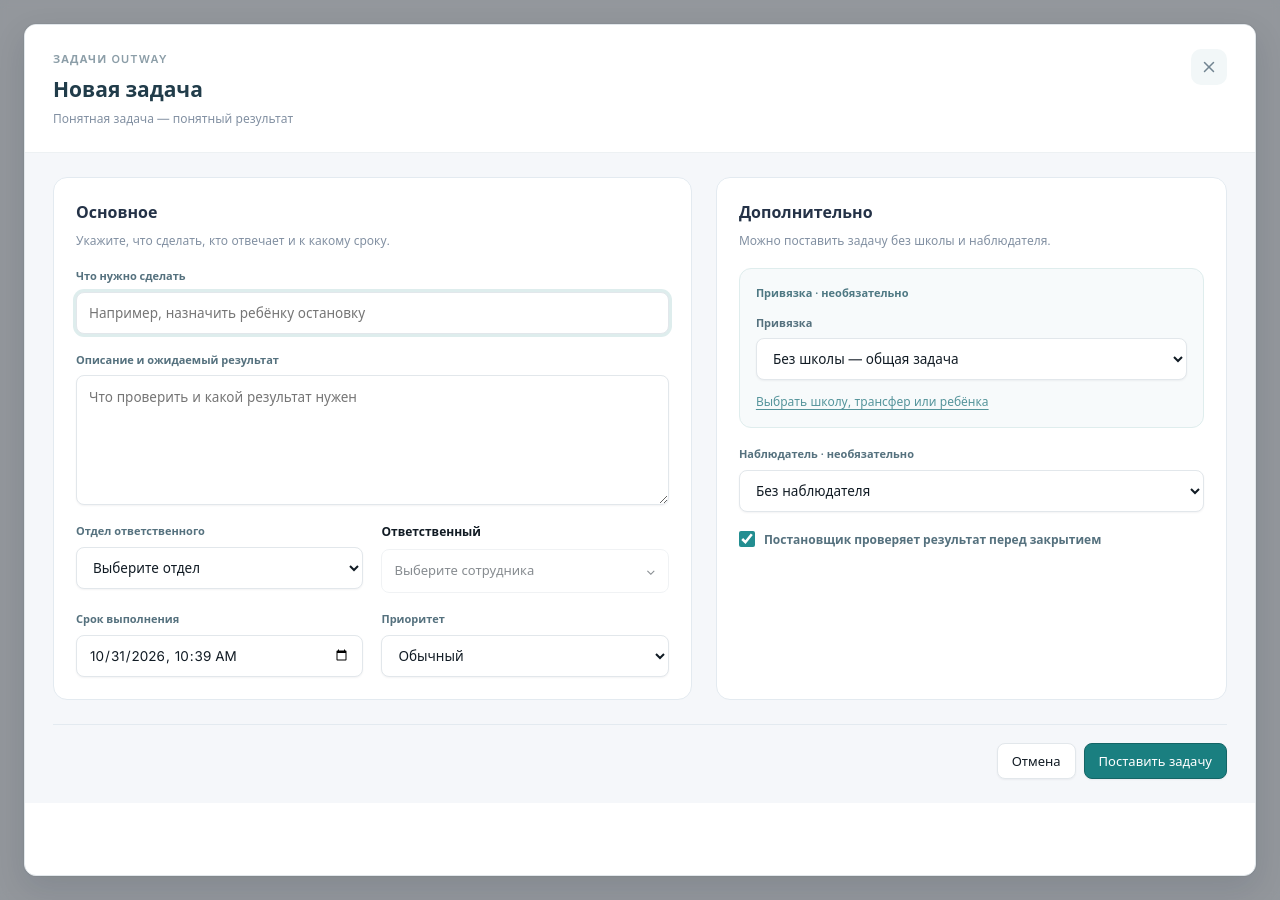
Scenario: can remove selections and requires at least one participant
Type "Общая задача" into the field labelled "Что нужно сделать" at [372, 313], box [76, 292, 669, 334]
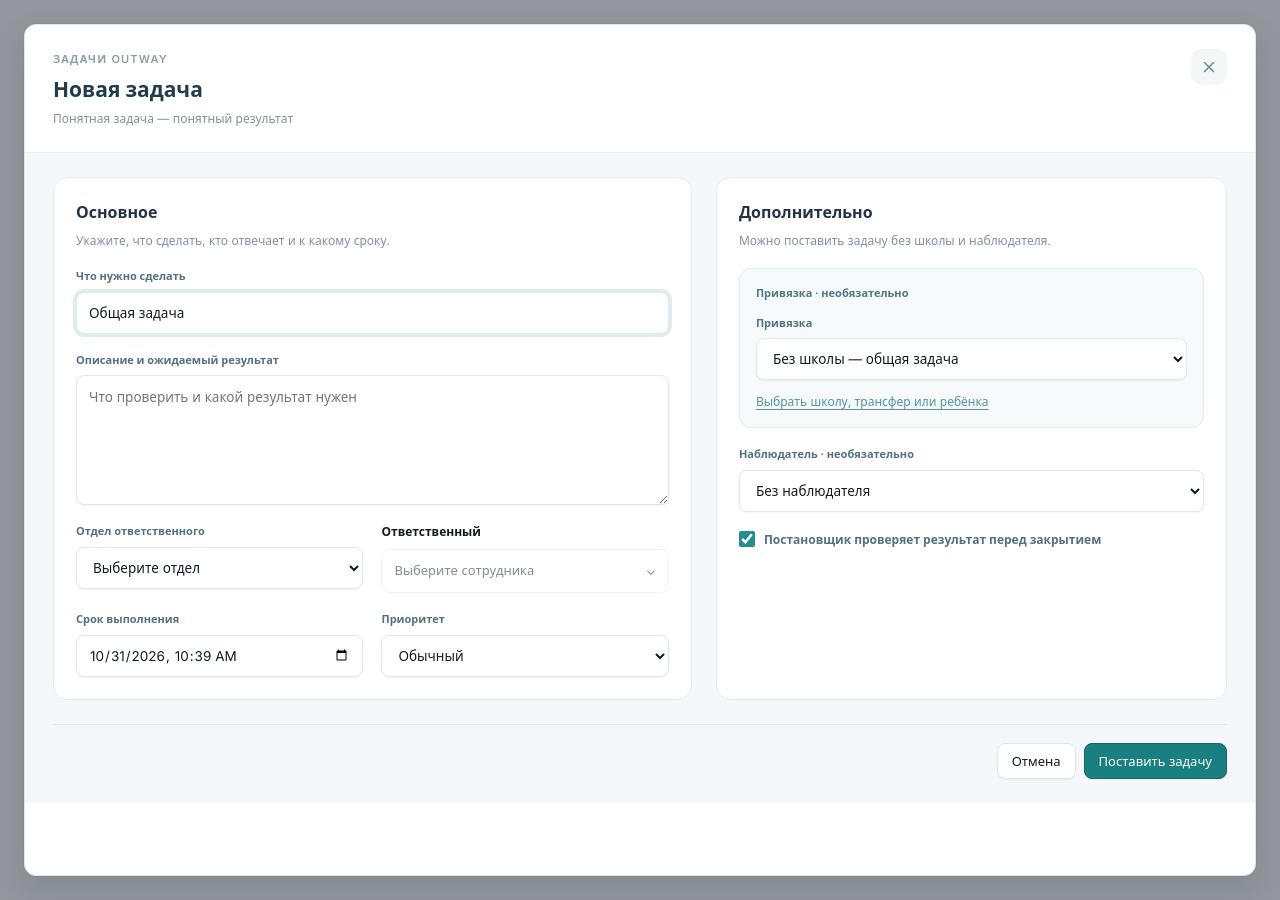
Select "Менеджеры" in the dropdown labelled "Отдел ответственного" at [220, 568], box [76, 547, 363, 589]
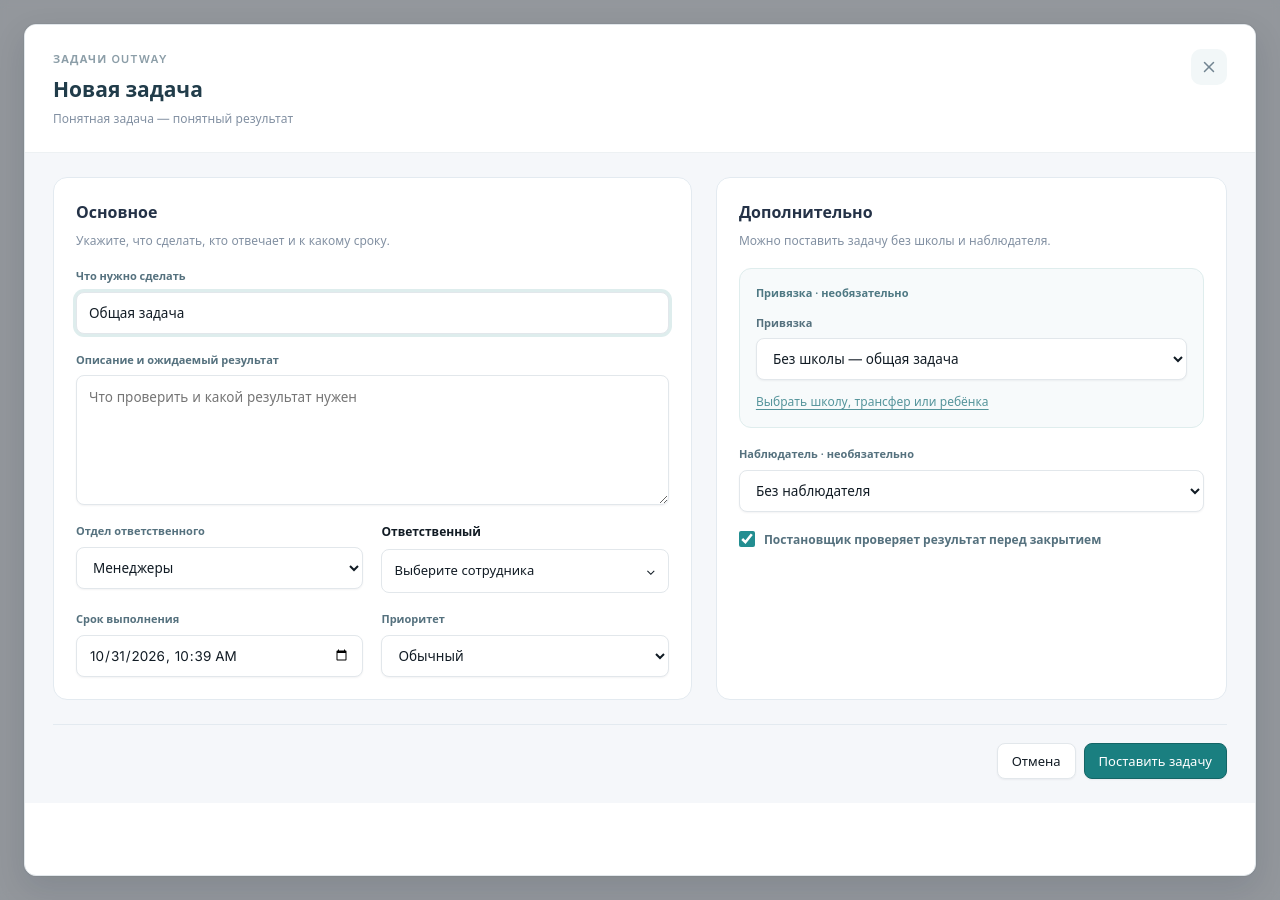
Click the button with aria-label "Ответственный" at [525, 571], box [381, 549, 669, 593]
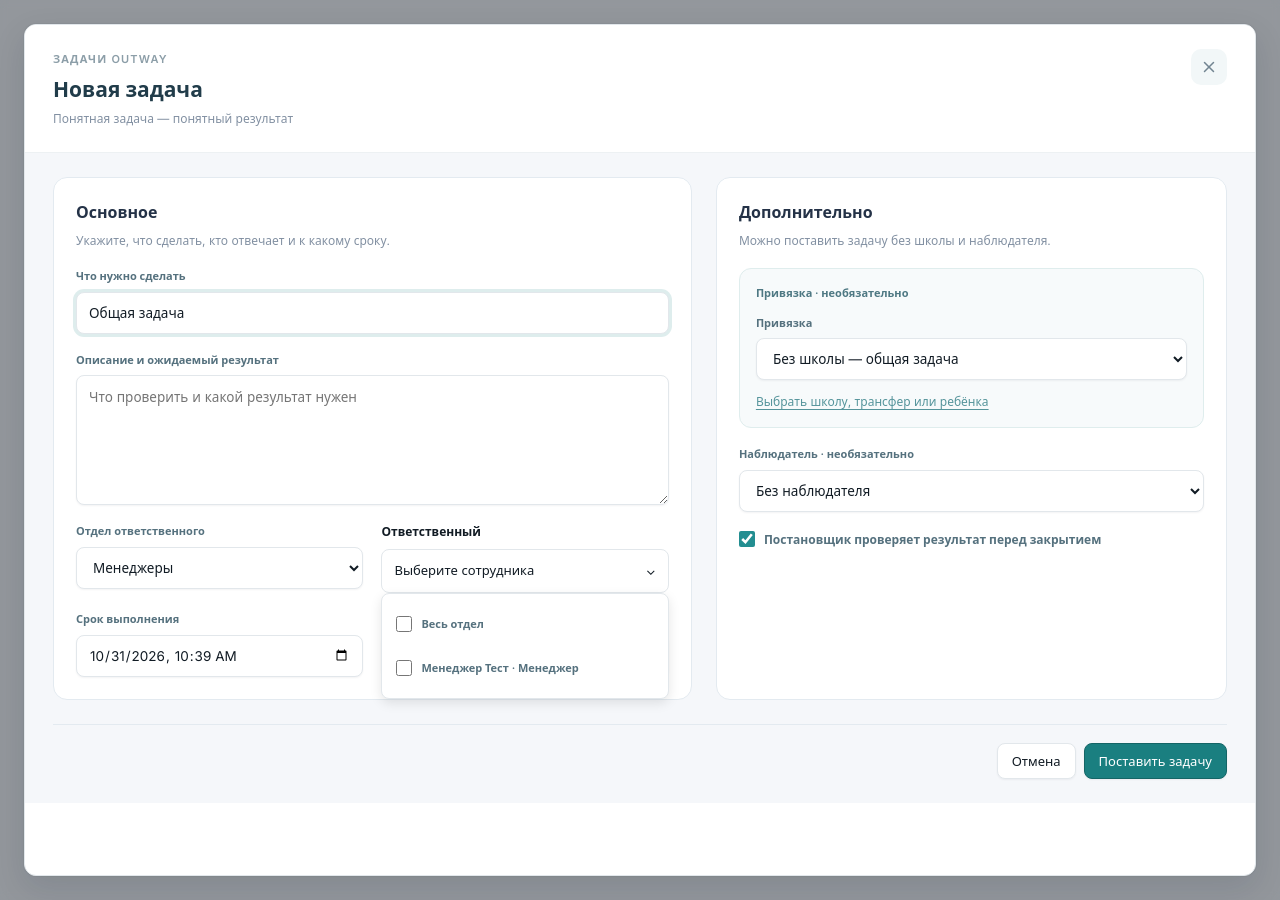
Click the checkbox labelled "Менеджер Тест · Менеджер" at [404, 668], box [396, 660, 412, 676]
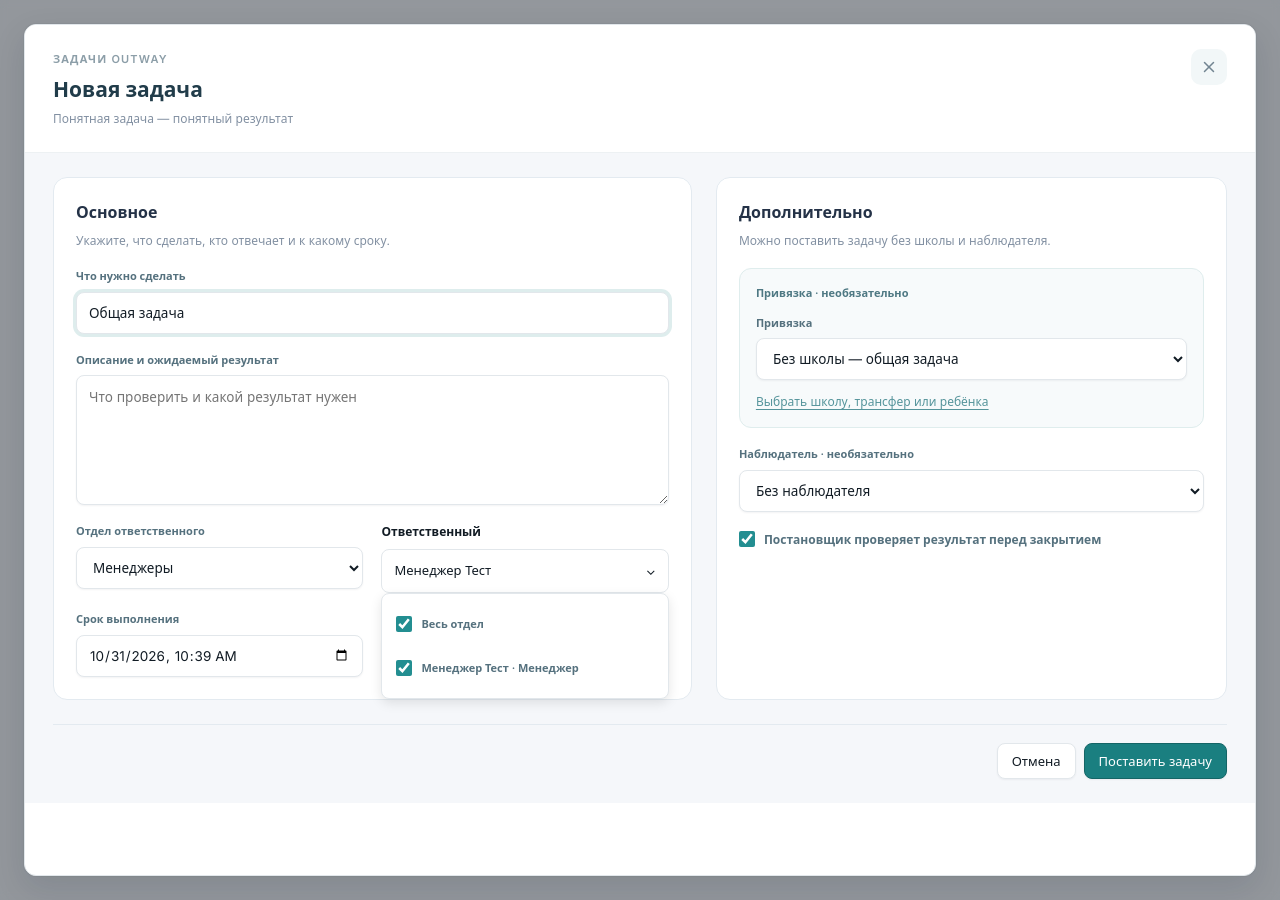
Click the checkbox labelled "Менеджер Тест · Менеджер" at [404, 668], box [396, 660, 412, 676]
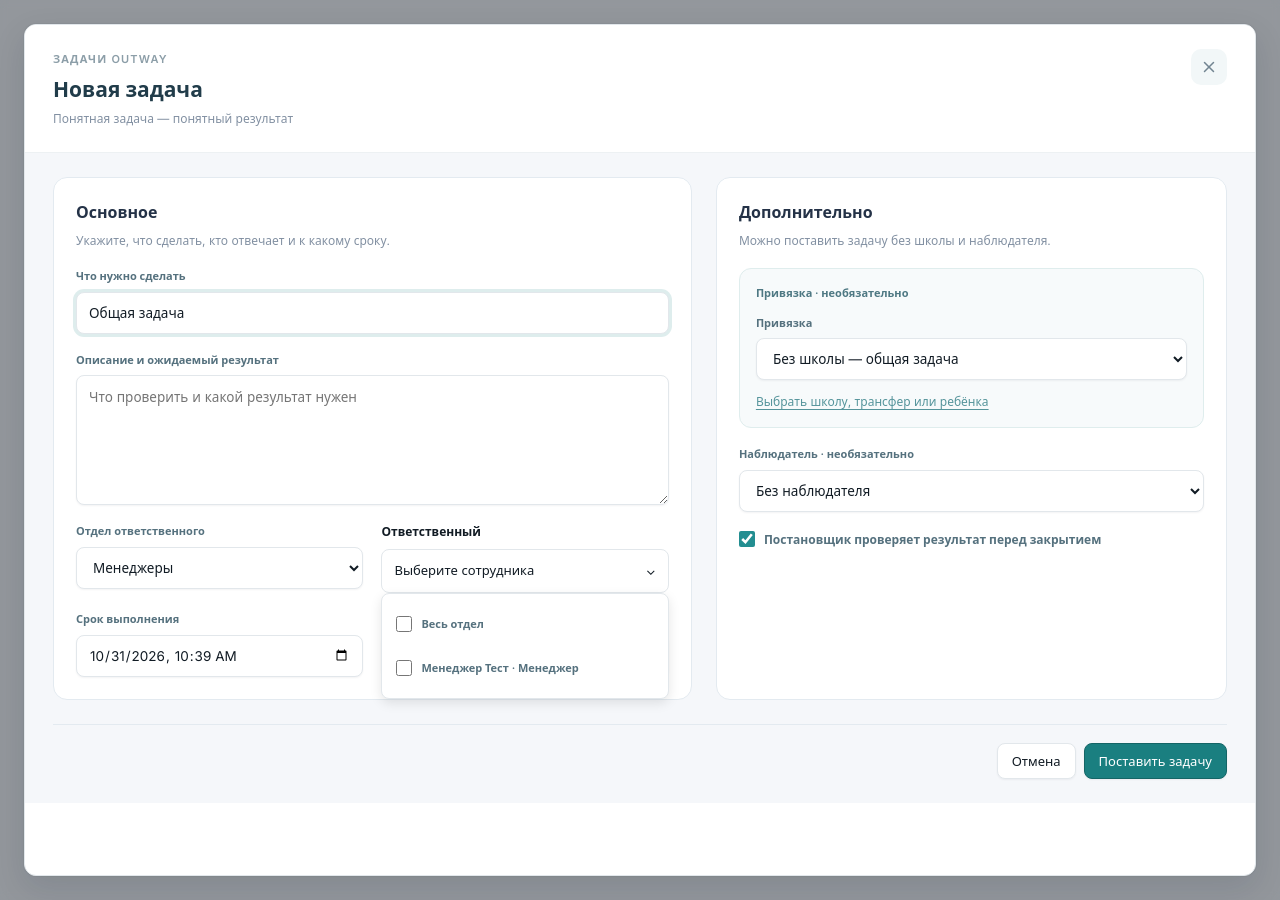
Click the button "Поставить задачу" at [1155, 761], box [1084, 743, 1227, 779]
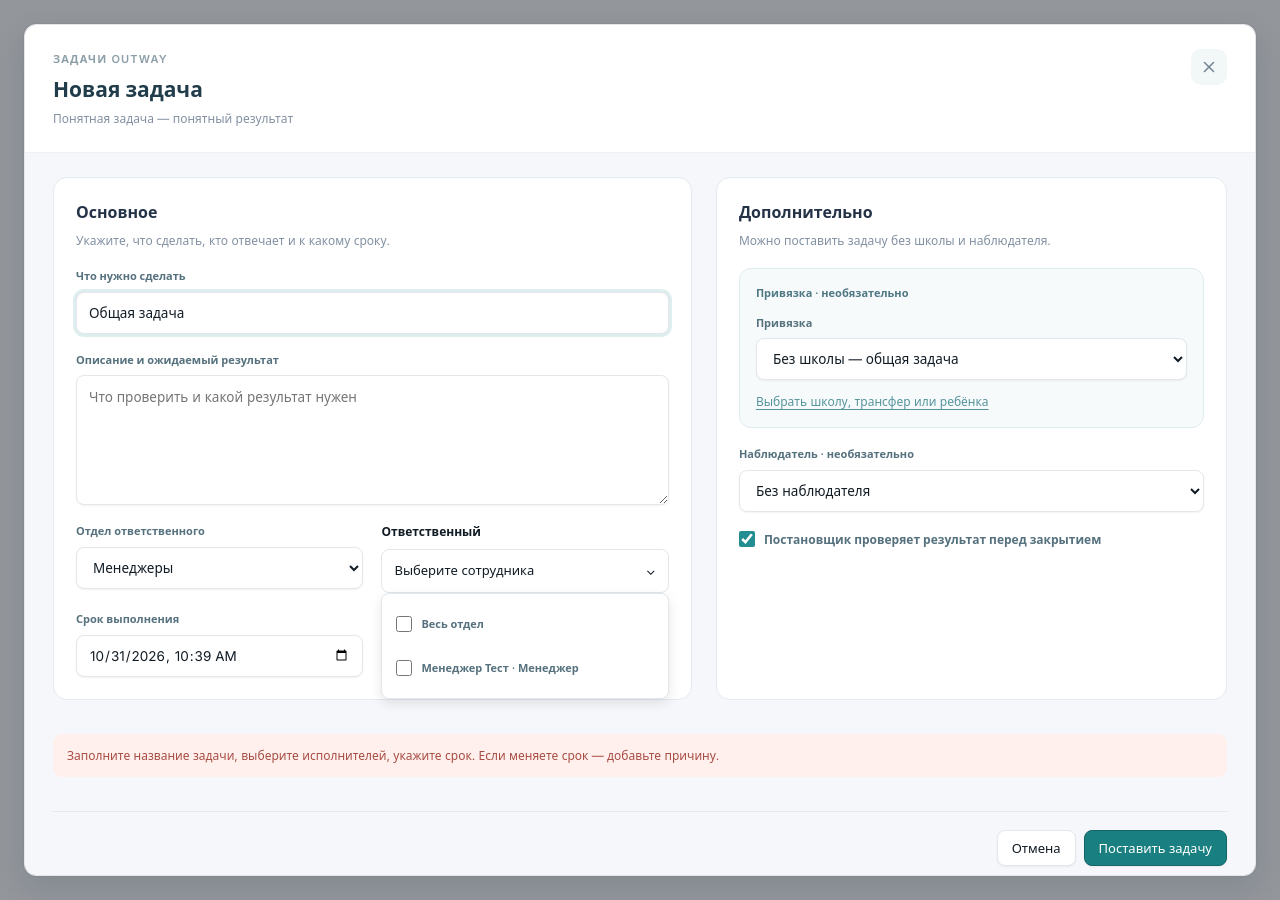
Expected: the message shows "выберите исполнителей", [67, 748, 719, 763]
